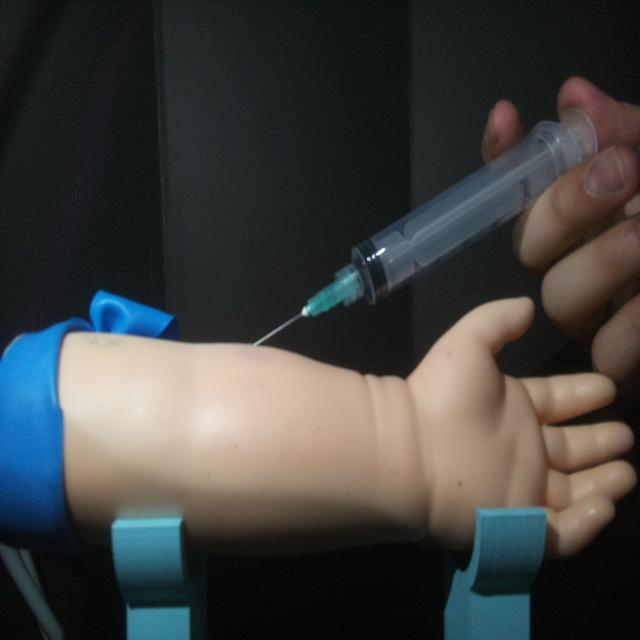26deg: (247, 102, 601, 351)
